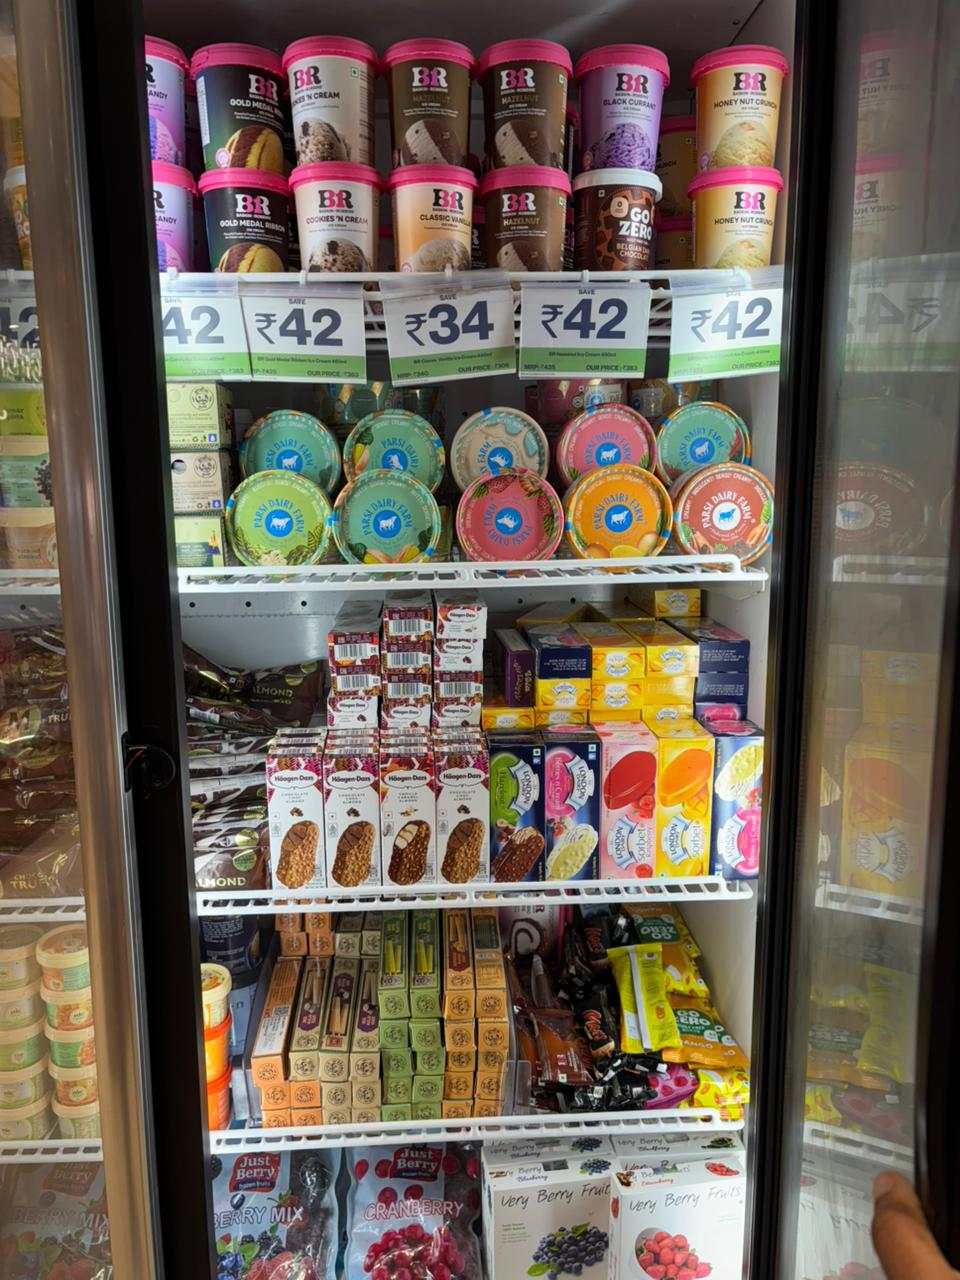Haagen-Dazs IceCream Bars: (362, 741, 446, 893), (315, 739, 386, 898), (257, 743, 328, 896), (427, 740, 491, 899), (430, 641, 491, 678), (378, 634, 432, 676), (436, 599, 491, 639), (428, 670, 486, 706), (324, 630, 376, 669), (375, 605, 436, 638), (315, 700, 380, 728), (381, 667, 432, 702), (424, 699, 486, 728), (327, 664, 376, 698), (378, 702, 434, 731)
